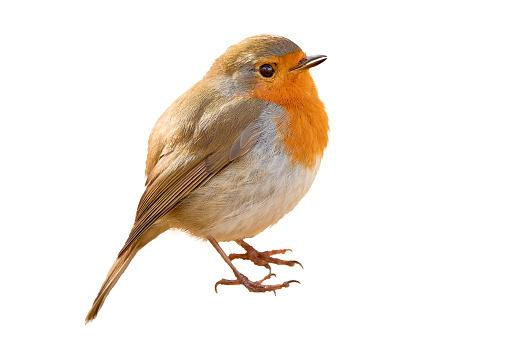bird: (86, 34, 328, 322)
